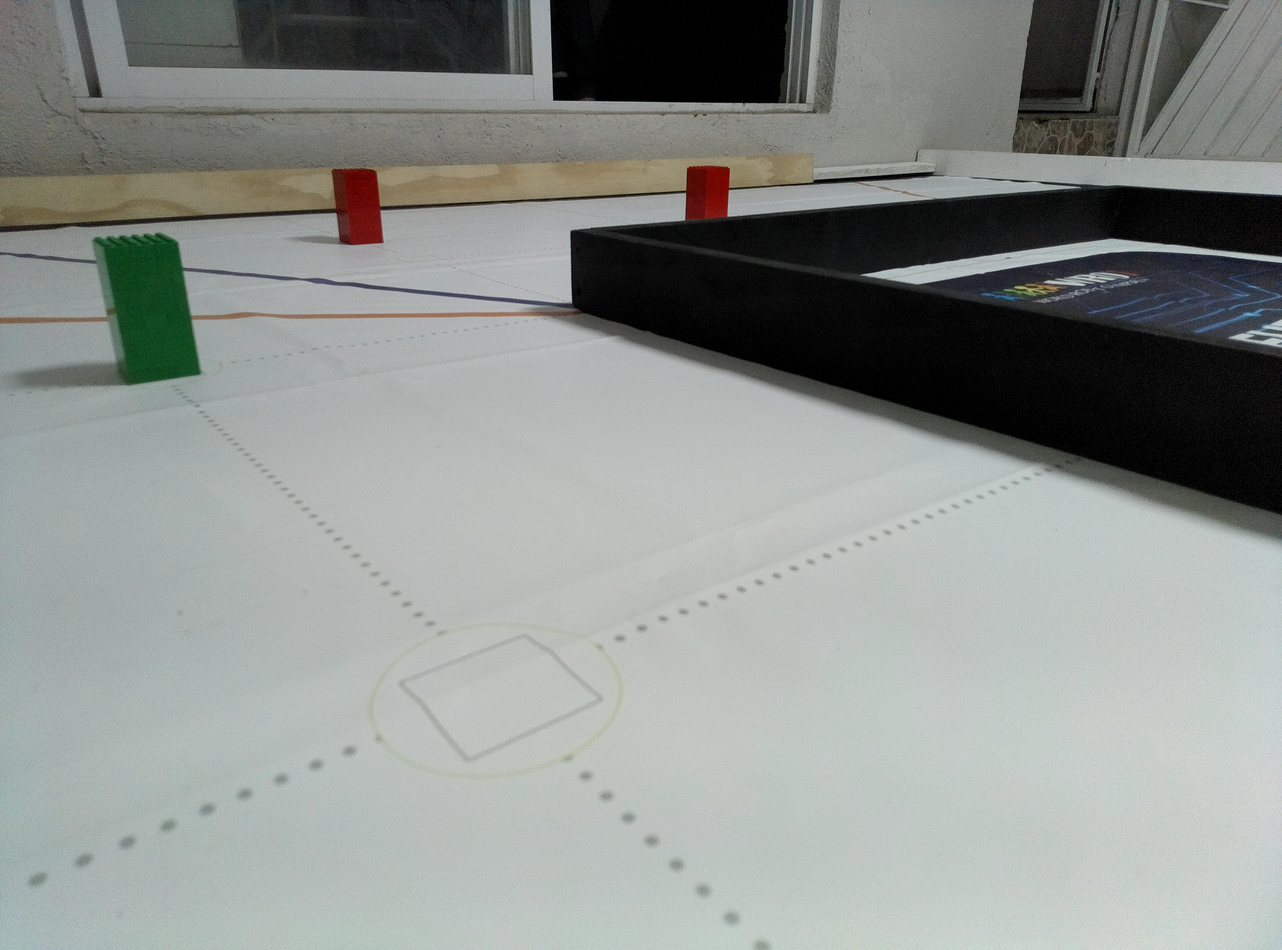greenbox: (91, 233, 203, 385)
redbox: (331, 168, 385, 245), (685, 165, 730, 220)
